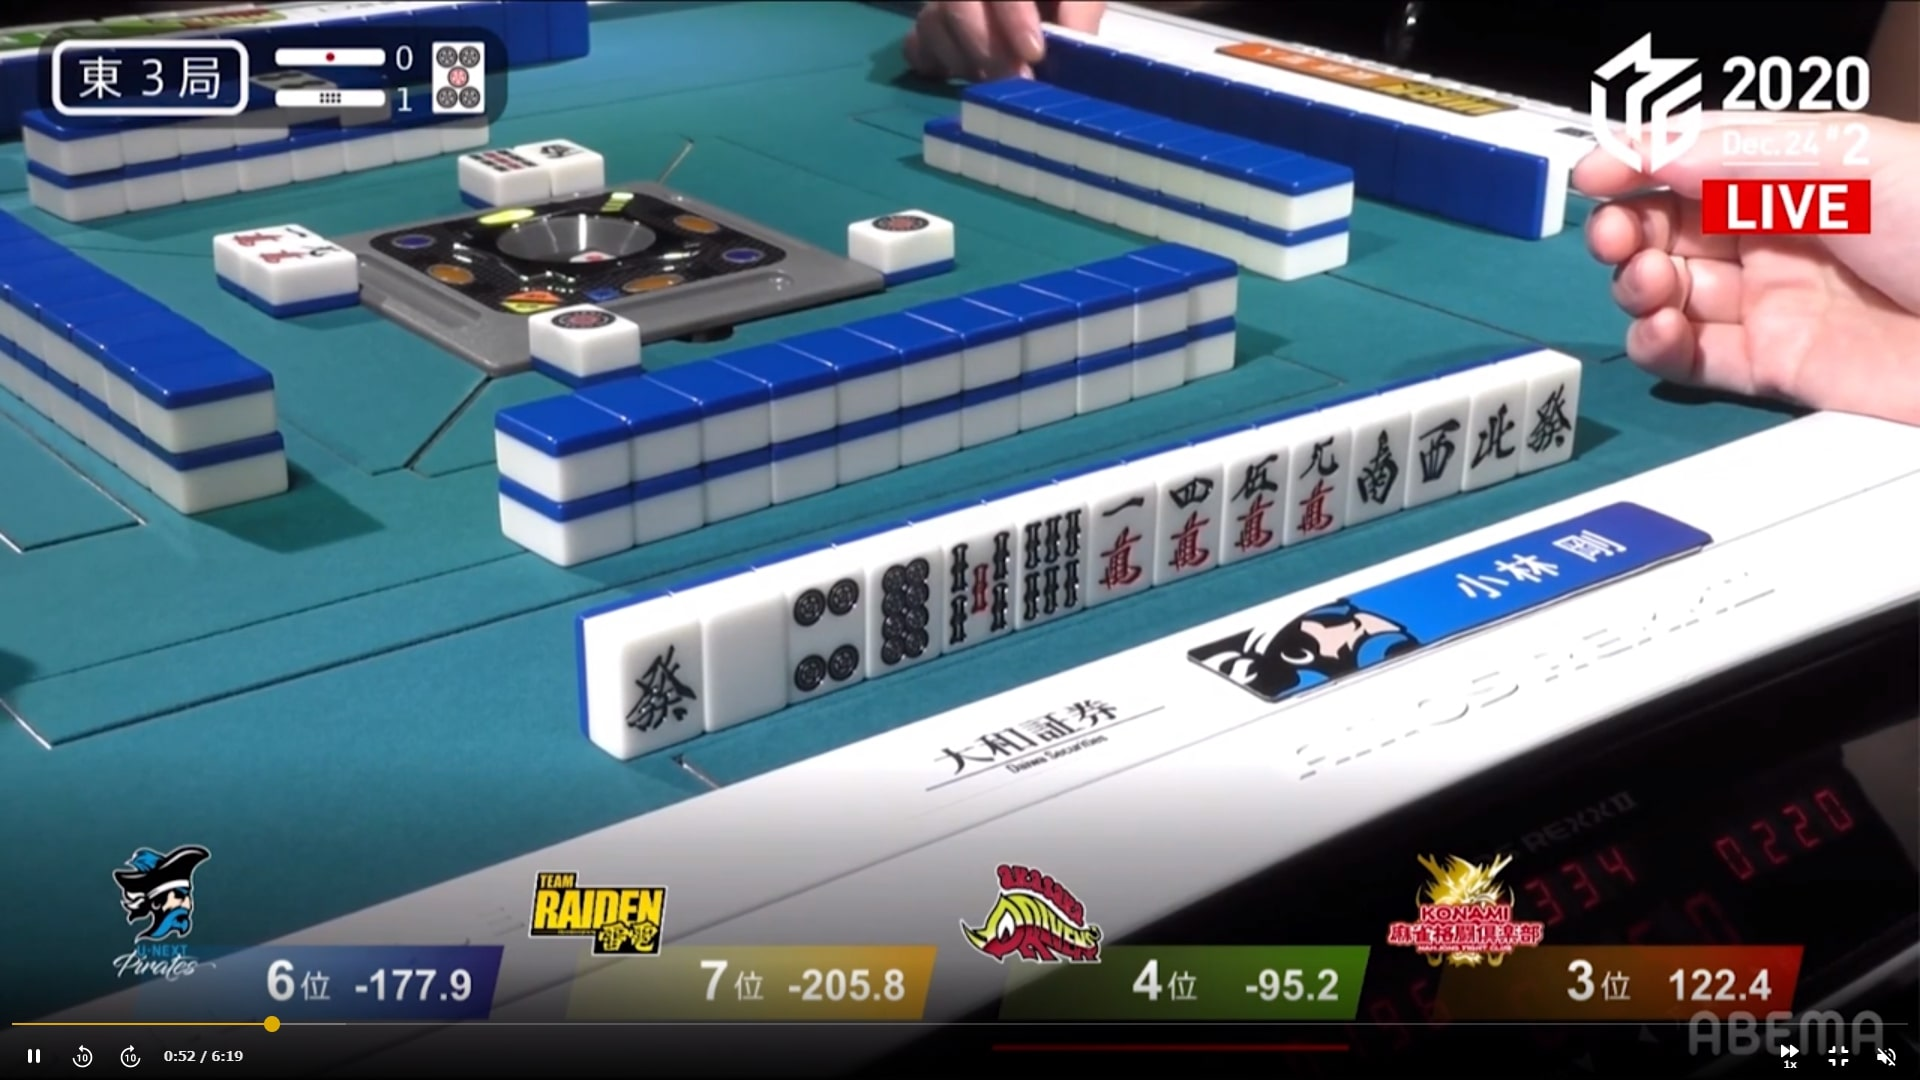1m: (1087, 492, 1143, 597)
4m: (1160, 471, 1216, 571)
4p: (783, 575, 865, 688)
5m: (1222, 447, 1283, 553)
5p: (943, 522, 1010, 646)
6p: (1015, 512, 1085, 620), (876, 556, 938, 671)
9m: (1282, 431, 1345, 541)
haku: (705, 597, 785, 717)
hand_ton_3: (47, 34, 260, 117)
hatsu: (615, 622, 705, 757), (1523, 377, 1577, 468)
nan: (1352, 419, 1403, 518)
pei: (1466, 386, 1519, 484)
round_1: (260, 79, 426, 117)
sha: (1402, 398, 1464, 504)
team_pirates: (1189, 578, 1472, 705)
